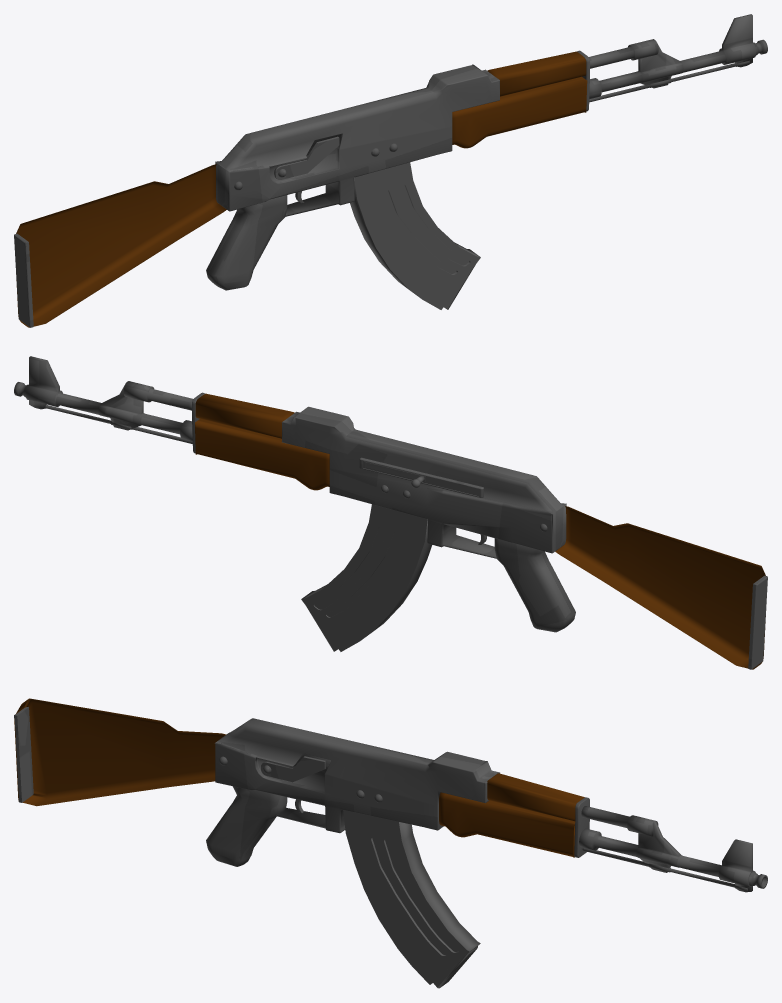
Rendered from ak-47_mid-poly.glb.
3 renders of one model, top to bottom at view 1: azimuth 30°, elevation 25°; view 2: azimuth 150°, elevation 25°; view 3: azimuth 330°, elevation 25°, orthographic.
Parts seen in each view (by area): view 1: Cube, Cube.001; view 2: Cube, Cube.001; view 3: Cube, Cube.001.
Boxes of the visible parts, x1,y1,x2,y2 form: Cube: (14,14,767,327); Cube.001: (350,162,480,309); Cube: (14,356,767,669); Cube.001: (301,504,431,651); Cube: (14,698,767,892); Cube.001: (343,810,480,988).
Size of the model in its own units: 4.29 by 1.25 by 0.2523.
Materials: 4 (3 with a texture image).
